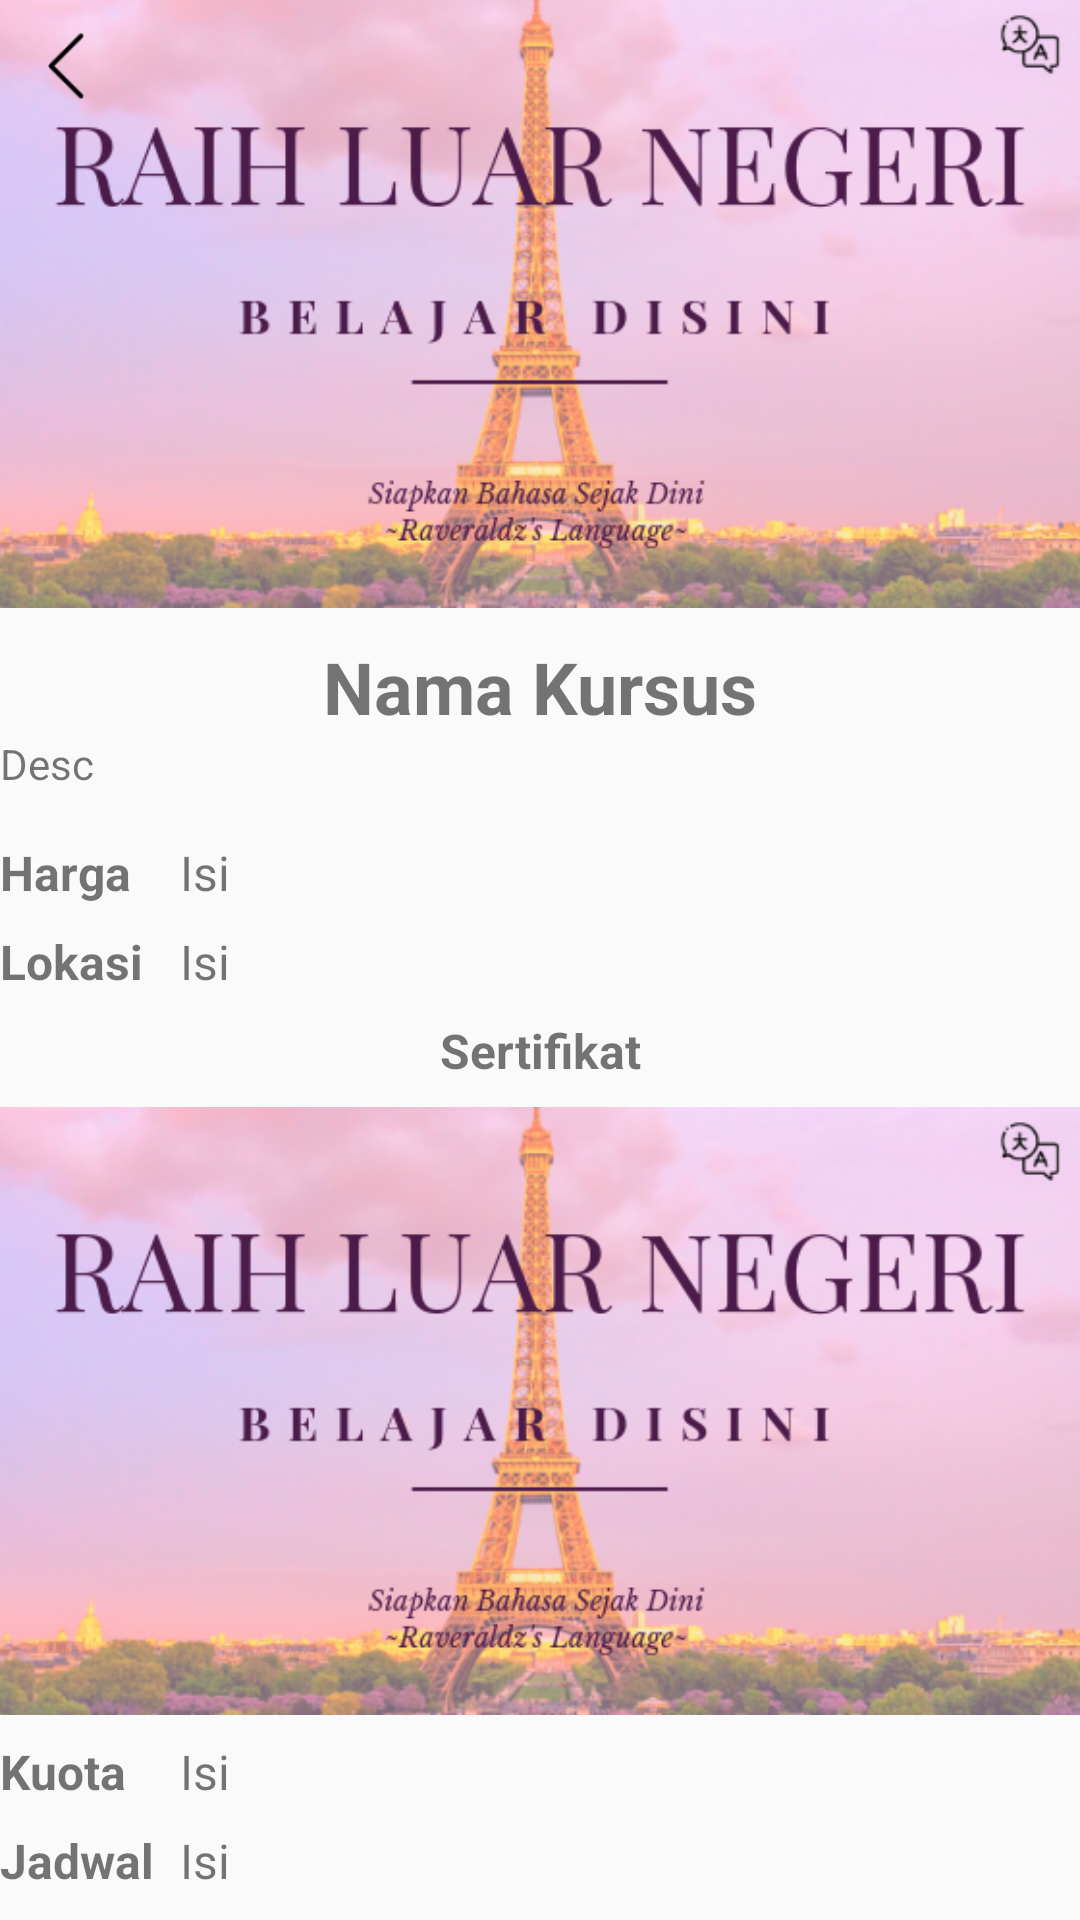

Named icons in this screenshot (1080×1920) and their bounding boxes, (x1, y1, x2, y2):
back: (30, 30, 102, 102)
